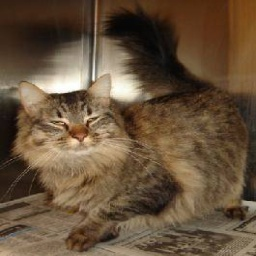cat: (11, 10, 256, 250)
